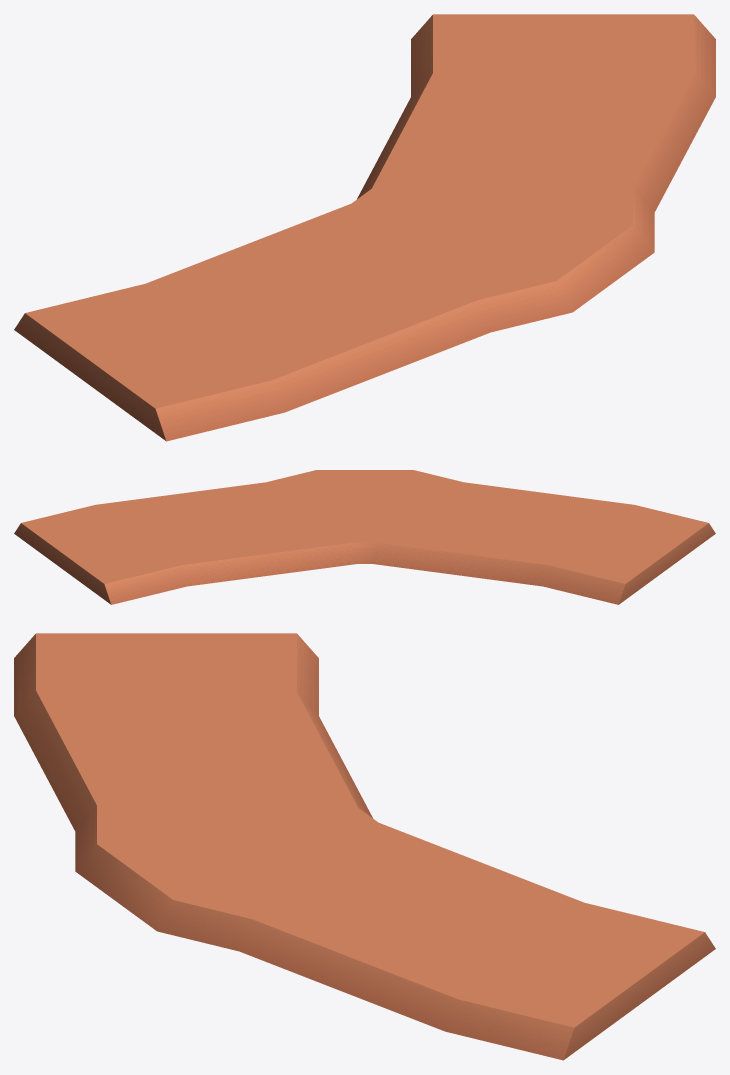
File: path-corner.fbx
3 renders of one model, top to bottom at view 1: azimuth 30°, elevation 25°; view 2: azimuth 150°, elevation 25°; view 3: azimuth 270°, elevation 25°, orthographic. The views are drawn at different scales.
Parts seen in each view (by area): view 1: path_corner; view 2: path_corner; view 3: path_corner.
Part boxes in pixels (<box>): path_corner: <box>14,14,715,441</box>; path_corner: <box>14,470,715,604</box>; path_corner: <box>14,633,715,1060</box>.
Size of the model in its own units: 87.08 by 2.5 by 64.23.
1 material, 1 textured.
